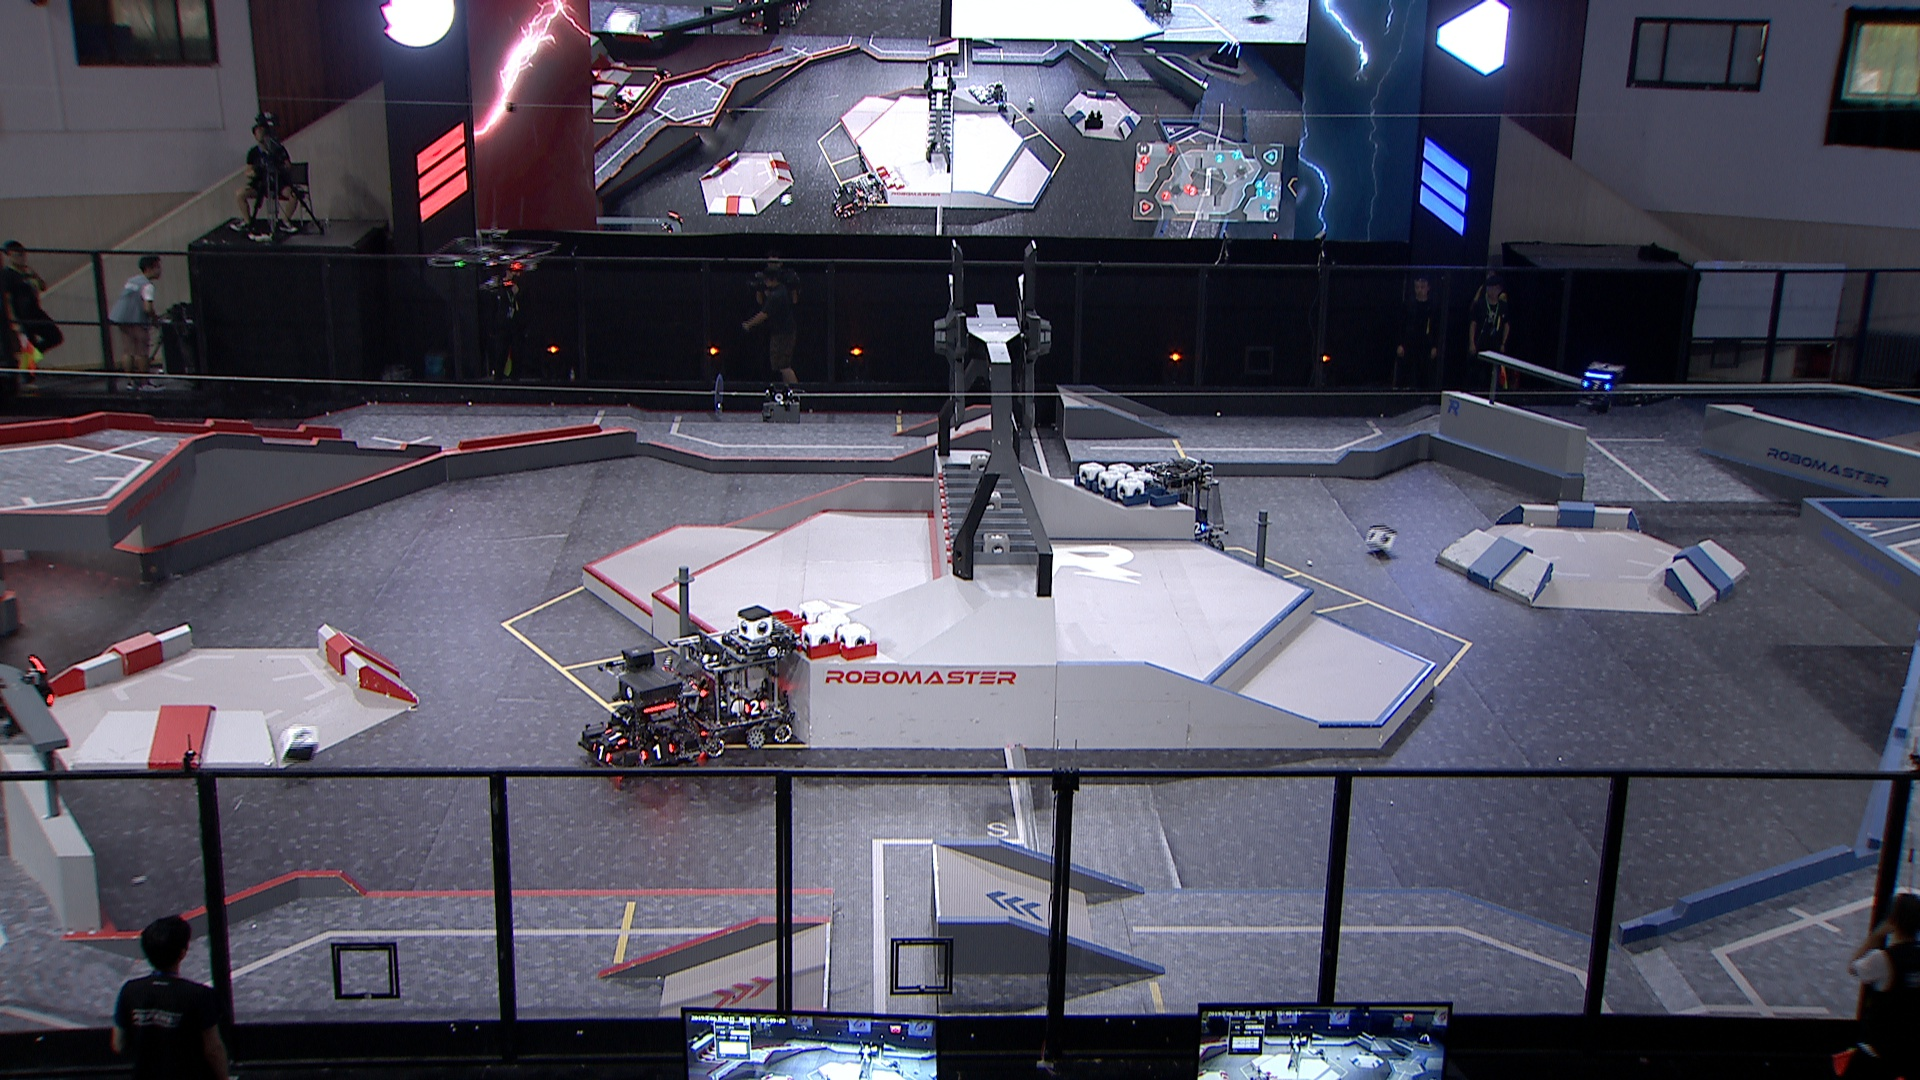armor: (638, 741, 676, 764), (588, 744, 617, 765), (741, 698, 767, 719), (1580, 378, 1611, 394), (603, 728, 628, 746), (1191, 520, 1211, 535)
car: (578, 644, 712, 782), (666, 618, 800, 756), (1134, 455, 1230, 562)
ignore: (831, 179, 870, 219), (855, 173, 887, 208), (981, 80, 1011, 113), (1209, 40, 1242, 69), (659, 214, 684, 237), (611, 94, 636, 113), (1100, 41, 1120, 58), (651, 69, 673, 84)
watcher: (1571, 361, 1625, 417)
